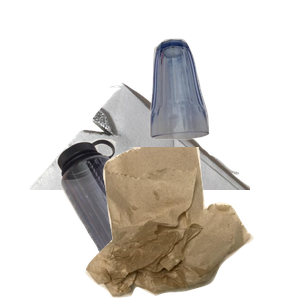glass: (147, 36, 300, 168)
paper: (10, 10, 250, 190)
plastic: (54, 136, 209, 300)
trash: (83, 147, 300, 300)
